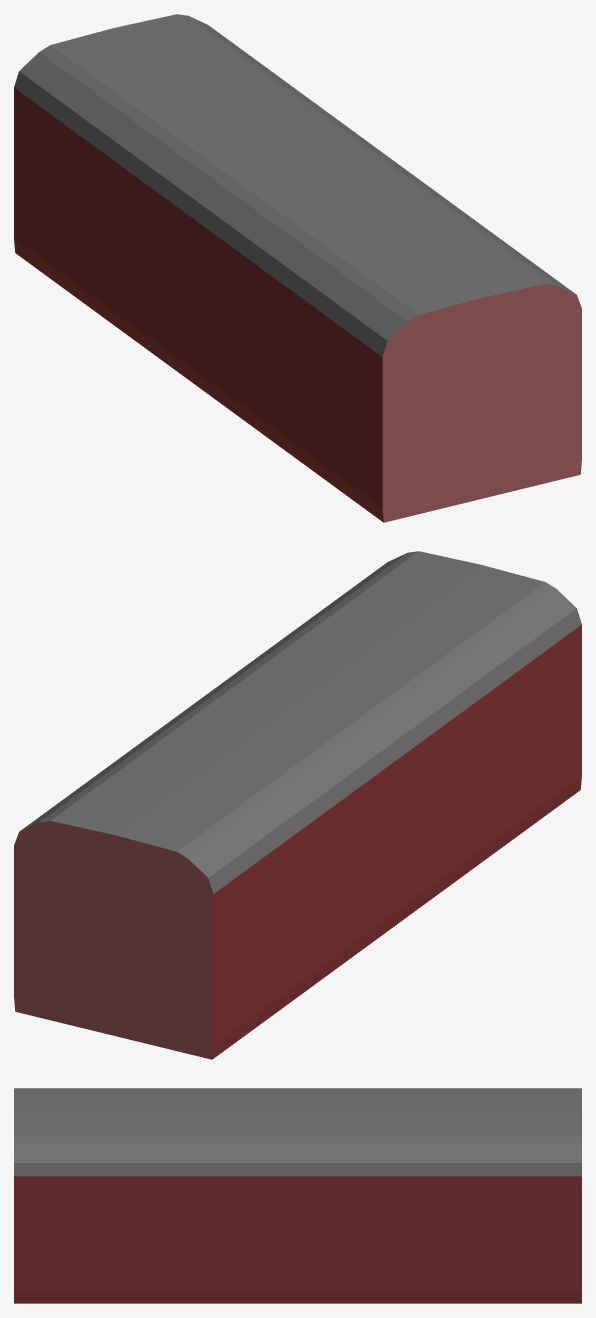
Rendered from ltsr-6wheel-body.dae.
3 views of the same model, one above another, from view 1: azimuth 30°, elevation 25°; view 2: azimuth 150°, elevation 25°; view 3: azimuth 270°, elevation 25° (orthographic). The views are drawn at different scales.
Parts seen in each view (by area): view 1: Cube_014; view 2: Cube_014; view 3: Cube_014.
Part boxes in pixels (<box>): Cube_014: <box>14,14,581,522</box>; Cube_014: <box>14,551,581,1059</box>; Cube_014: <box>14,1088,581,1303</box>.
Bounding box in the file's own units: 1.73 × 5.53 × 1.66.
